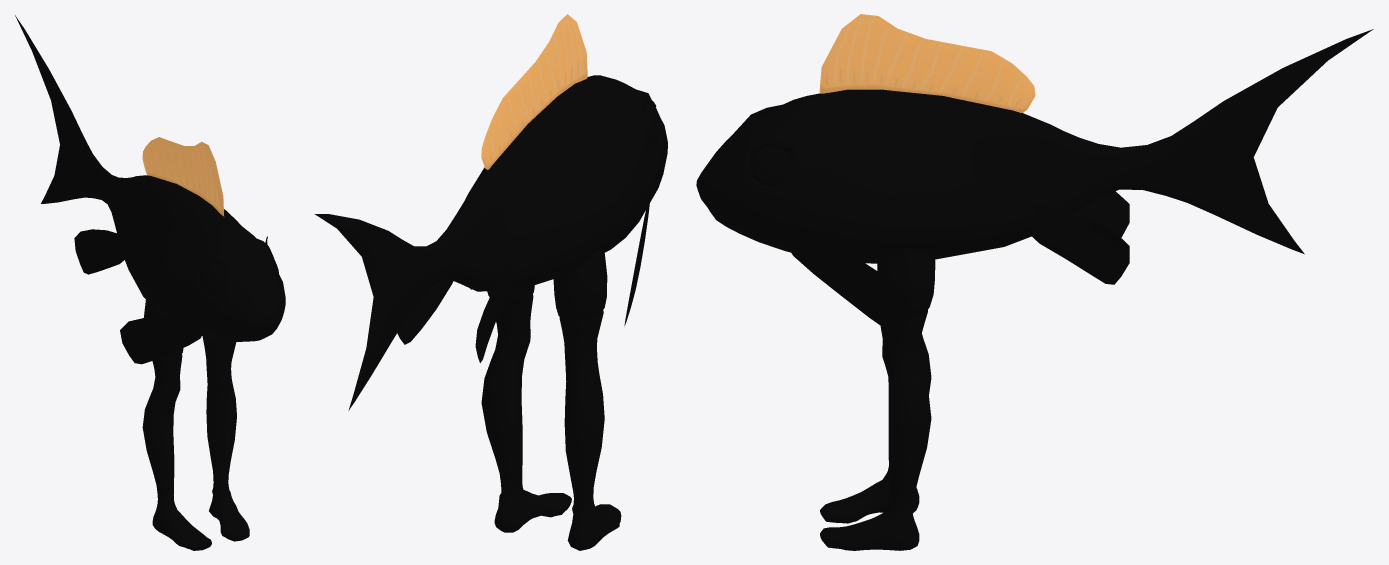
File: fish.glb
3 views of the same model, side by side, from view 1: azimuth 30°, elevation 25°; view 2: azimuth 150°, elevation 25°; view 3: azimuth 270°, elevation 25° (orthographic). The views are drawn at different scales.
Parts seen in each view (by area): view 1: LowPoli_Fish.003_FishMaterial_0; view 2: LowPoli_Fish.003_FishMaterial_0; view 3: LowPoli_Fish.003_FishMaterial_0.
Part boxes in pixels (bbox=[...]): LowPoli_Fish.003_FishMaterial_0: bbox=[15, 15, 285, 550]; LowPoli_Fish.003_FishMaterial_0: bbox=[314, 14, 667, 550]; LowPoli_Fish.003_FishMaterial_0: bbox=[696, 14, 1373, 550].
Bounding box in the file's own units: 2.68 × 7.09 × 8.43.
Materials: 1 (1 with a texture image).
